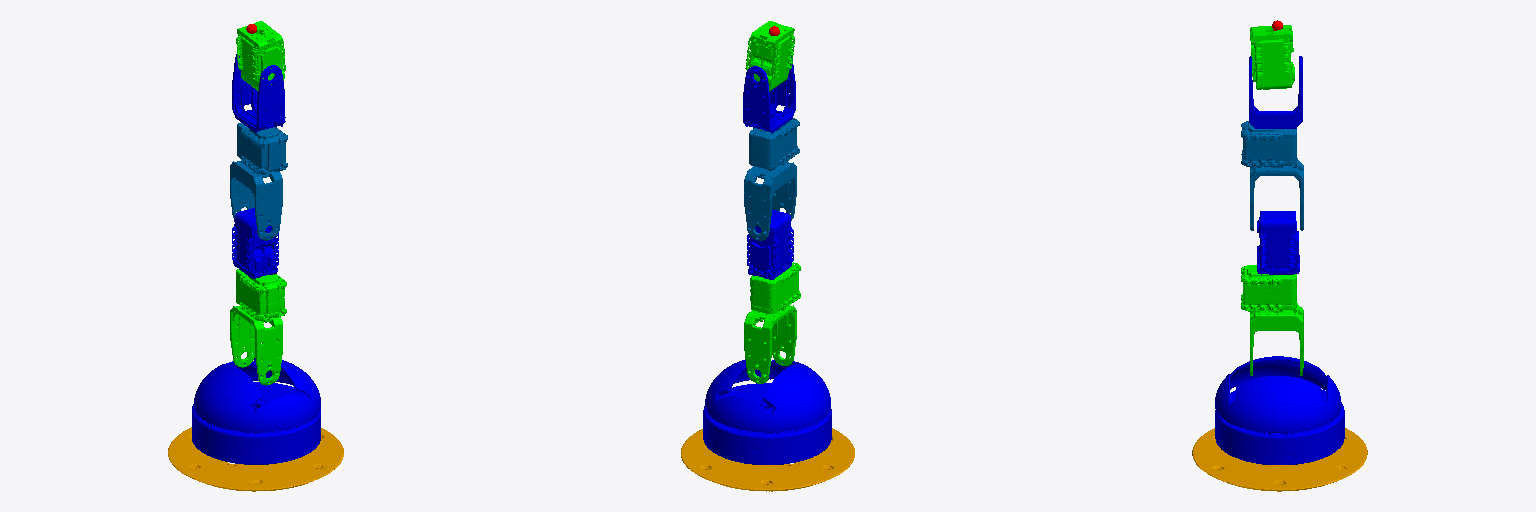
The robot description file, URDF, robot "robot_arm":
<!--https://www.hamzamerzic.info/mesh_cleaner/?-->
<!--file://[local-path]/Downloads/bullet3-master/data/kuka_iiwa/model.urdf-->
<robot name="robot_arm">
  <material  name="red">
    <color rgba="1.0 0.0 0.0 1.0"/>
  </material>
  <material  name="green">
    <color rgba="0.0 1.0 0.0 1.0"/>
  </material>
  <material  name="blue">
    <color rgba="0.0 0.0 1.0 1.0"/>
  </material>

  <link name="root">
    <inertial>
      <origin xyz="0 0 0" rpy="0 0 0" />
      <!-- Volume:  7.1922752000e-05 -->
      <mass value="0" />
      <!--pose>  6.0072000000e-03  1.8791600000e-03  2.2527800000e-03 0 0 0 </pose-->
      <inertia ixx="1.7270217664e-03" ixy="3.5078468633e-07" ixz="-9.6598361531e-07" iyy="3.4406858987e-03" iyz="-8.2437056914e-08" izz="1.7184554465e-03"/>
    </inertial>
    <visual>
      <origin xyz="0 0 0" rpy="-1.57 0 0" />
      <geometry>
        <mesh filename="data/root.dae" />
      </geometry>
    </visual>
    <collision>
      <origin xyz="0 0 0" rpy="-1.57 0 0" />
      <geometry>
        <mesh filename="data/root.stl" />
      </geometry>
    </collision>
  </link>
  
  <joint name="joint1" type="revolute">
    <origin xyz="0 0 0" rpy="0 0 3.14" />
    <axis xyz="0 0 1" />
    <parent link="root" />
    <child  link="link1" />
    <calibration rising="0.0" />
    <dynamics damping="0.0" friction="0.0" />
    <limit effort="30" velocity="1.0" lower="-2.6" upper="2.6" />
    <safety_controller k_velocity="10" soft_lower_limit="-2.2" soft_upper_limit="2.2" />
  </joint>
  
  <link name="link1">
    <inertial>
      <!-- Volume:  1.1736998000e-04 -->
      <mass value="1.0" />
      <!--pose>  6.0584500000e-03  4.2441850000e-02 -2.5059200000e-03 0 0 0 </pose-->
      <inertia ixx="1.5223804477e-03" ixy="1.3931484865e-05" ixz="4.6208025255e-06" iyy="2.3857795366e-03" iyz="-5.3988353751e-06" izz="1.4408507363e-03"/>
    </inertial>
    <visual>
      <origin xyz="-0.005 -0.01 0" rpy="1.57 0 1.57" />
      <geometry>
        <mesh filename="data/link1.dae" />
      </geometry>
      <material name="blue" />
    </visual>
    <collision>
      <origin xyz="-0.005 -0.01 0" rpy="1.57 0 1.57"  />
      <geometry>
        <mesh filename="data/link1.stl" />
      </geometry>
    </collision>
  </link>
  
  <joint name="joint2" type="revolute">
    <origin xyz="0.0 0 0.0916" rpy="-1.57 1.57 0" />
    <axis xyz="0 0 1" />
    <parent link="link1" />
    <child  link="link2" />
    <calibration rising="0.0" />
    <dynamics damping="0.0" friction="0.0" />
    <limit effort="30" velocity="1.0" lower="-2.1" upper="2.1" />
    <safety_controller k_velocity="10" soft_lower_limit="-1.7" soft_upper_limit="1.7" />
  </joint>
  
  <link name="link2">
    <inertial>
      <!-- Volume:  5.3688465000e-05 -->
      <mass value="1.0" />
      <!--pose> -7.0384000000e-04  1.5605060000e-02  1.4795500000e-02 0 0 0 </pose-->
      <inertia ixx="5.4092711721e-04" ixy="1.1341970757e-06" ixz="5.3805058498e-05" iyy="7.2045046920e-04" iyz="-6.1169023923e-06" izz="3.0026347000e-04"/>
    </inertial>
    <visual>
      <origin xyz="-0.046 0.02 0.005" rpy="-1.57 1.57 1.57" />
      <geometry>
        <mesh filename="data/link2.dae" />
      </geometry>
      <material name="green" />
    </visual>
    <collision>
      <origin xyz="-0.046 0.02 0.005" rpy="-1.57 1.57 1.57" />
      <geometry>
        <mesh filename="data/link2.stl" />
      </geometry>
    </collision>
  </link>
  
  <joint name="joint3" type="revolute">
    <origin xyz="-0.0935 0 0" rpy="0 -1.57 0" />
    <axis xyz="0 0 1" />
    <parent link="link2" />
    <child  link="link3" />
    <calibration rising="0.0" />
    <dynamics damping="0.0" friction="0.0" />
    <limit effort="30" velocity="1.0" lower="-2.6" upper="2.6" />
    <safety_controller k_velocity="10" soft_lower_limit="-2.2" soft_upper_limit="2.2" />
  </joint>
  
  <link name="link3">
    <inertial>
      <!-- Volume:  4.4373322000e-05 -->
      <mass value="1.0" />
      <!--pose> -9.1594000000e-04  1.5870950000e-02  7.9653000000e-04 0 0 0 </pose-->
      <inertia ixx="2.7643987980e-04" ixy="9.0842871760e-09" ixz="-4.3337278196e-06" iyy="3.1896672735e-04" iyz="4.1547711934e-07" izz="1.5720104301e-04"/>
    </inertial>
    <visual>
      <origin xyz="-0.00 -0.012 0.022" rpy="0 0 0"/>
      <geometry>
        <mesh filename="data/link3.dae" />
      </geometry>
      <material name="blue" />
    </visual>
    <collision>
      <origin xyz="-0.00 -0.012 0.022" rpy="0 0 0"/>
      <geometry>
        <mesh filename="data/link3.stl" />
      </geometry>
    </collision>
  </link>
  
  <joint name="joint4" type="revolute">
    <origin xyz="0 0 0.0437" rpy="0 1.57 0" />
    <axis xyz="0 0 1" />
    <parent link="link3" />
    <child  link="link4" />
    <calibration rising="0.0" />
    <dynamics damping="0.0" friction="0.0" />
    <limit effort="30" velocity="1.0" lower="-2.1" upper="2.1" />
    <safety_controller k_velocity="10" soft_lower_limit="-1.7" soft_upper_limit="1.7" />
  </joint>
  
  <link name="link4">
    <inertial>
      <!-- Volume:  5.3506546000e-05 -->
      <mass value="1.0" />
      <!--pose> -1.5582800000e-03  1.4998590000e-02 -2.8418200000e-03 0 0 0 </pose-->
      <inertia ixx="5.5589705790e-04" ixy="-2.3330584635e-06" ixz="-5.4290039578e-05" iyy="7.3493604315e-04" iyz="-1.3984593586e-05" izz="3.0048525651e-04" />
    </inertial>
    <visual>
      <origin xyz="-0.07 -0.01 0.007" rpy="0 -1.57 0" />
      <geometry>
        <mesh filename="data/link4.dae"/>
      </geometry>
      <material name="geen" />
    </visual>
    <collision>
      <origin xyz="-0.07 -0.01 0.007" rpy="0 -1.57 0" />
      <geometry>
        <mesh filename="data/link4.stl" />
      </geometry>
    </collision>
  </link>
  
  <joint name="joint5" type="revolute">
    <origin xyz="-0.0971 0 0" rpy="3.14 1.57 0" />
    <axis xyz="0 0 1" />
    <parent link="link4" />
    <child  link="link5" />
    <calibration rising="0.0" />https://www.hamzamerzic.info/mesh_cleaner/?
    <dynamics damping="0.0" friction="0.0" />
    <limit effort="30" velocity="1.0" lower="-2.6" upper="2.6" />
    <safety_controller k_velocity="10" soft_lower_limit="-2.2" soft_upper_limit="2.2" />
  </joint>
  
  <link name="link5">
    <inertial>
      <!-- Volume:  1.2654689000e-05 -->
      <mass value="1.0" />
      <!--pose> -1.4611400000e-03  1.3265880000e-02 -6.7398800000e-03 0 0 0 </pose-->
      <inertia ixx="4.0059715415e-04" ixy="-5.0194832919e-08" ixz="-2.5979303008e-07" iyy="7.1127871258e-04" iyz="-6.7620152498e-06" izz="4.5263093388e-04"/>
    </inertial>
    <visual>
      <origin xyz="0 -0.02 0.03" rpy="0 0 0" />
      <geometry>
        <mesh filename="data/link5.dae"/>
      </geometry>
      <material name="blue" />
    </visual>
    <collision>
      <origin xyz="0 -0.02 0.03" rpy="0 0 0" />
      <geometry>
        <mesh filename="data/link5.stl"/>
      </geometry>
    </collision>
  </link>
  
  <joint name="joint6" type="revolute">
    <origin xyz="0 0 0.052" rpy="0 -1.57 0" />
    <axis xyz="0 0 1" />
    <parent link="link5" />
    <child  link="link6" />
    <calibration rising="0.0" />
    <dynamics damping="0.0" friction="0.0" />
    <limit effort="30" velocity="1.0" lower="-2.1" upper="2.1" />
    <safety_controller k_velocity="10" soft_lower_limit="-1.7" soft_upper_limit="1.7" />
  </joint>
  
  <link name="link6">
    <inertial>
      <!-- Volume:  4.7712120000e-05 -->
      <mass value="1.0" />
      <!--pose>  1.3942550000e-02  4.9358810000e-02  1.6219755000e-01 0 0 0 </pose-->
      <inertia ixx="2.7167957324e-04" ixy="9.4654796308e-06" ixz="5.8611941788e-07" iyy="1.6274507190e-04" iyz="1.3052637359e-05" izz="3.1645738022e-04"/>
    </inertial>
    <visual>
      <origin xyz="-0.037 0.155 0.0185" rpy="1.57 1.57 0" />
      <geometry>
        <mesh filename="data/link6.dae"/>
      </geometry>
      <material name="green" />
    </visual>
    <collision>
      <origin rpy="0 0 0" xyz="0 0 0"/>
      <geometry>
        <mesh filename="data/link6.stl"/>
      </geometry>
    </collision>
  </link>
  
  <joint name="end_effector" type="fixed"> <!--Plans to upgrade to 7DOF-->
    <origin xyz="0.0419 0 0" rpy="-1.57 0 0" />
    <parent link="link6" />
    <child  link="dummy" />
  </joint>
  
  <link name="dummy">
    <inertial>
      <mass value="1.0" />
      <inertia ixx="0.0" ixy="0.0" ixz="0.0" iyy="0.0" iyz="0.0" izz="0.0"/>
    </inertial>
    <visual>
      <origin rpy="0 0 0" xyz="0 0 0"/>
      <geometry>
        <sphere radius="0.005"/>
      </geometry>
      <material name="red" />
    </visual>
    <collision>
      <origin rpy="0 0 0" xyz="0 0 0"/>
      <geometry>
        <sphere radius="0.005"/>
      </geometry>
    </collision>
  </link>
</robot>

--- What the picture shows (computed from the rendered views, not written in the file) ---
3 views of the same robot in one strip: view 1: azimuth 30°, elevation 25°; view 2: azimuth 150°, elevation 25°; view 3: azimuth 270°, elevation 25° (orthographic).
Model robot_arm with 8 links and 7 joints (6 revolute, 1 fixed), rooted at root, posed all joints at 0.
Visible links, largest first — view 1: link1, root, link2, link4, link5, link3, link6; view 2: link1, root, link2, link4, link5, link3, link6; view 3: link1, root, link2, link4, link3, link6, link5.
Boxes of the visible links, left/top/right/bottom form: link1: left=192, top=358, right=320, bottom=464; root: left=168, top=427, right=343, bottom=491; link2: left=230, top=269, right=286, bottom=385; link4: left=230, top=123, right=287, bottom=240; link5: left=232, top=54, right=285, bottom=132; link3: left=232, top=208, right=278, bottom=278; link6: left=236, top=21, right=285, bottom=90; link1: left=703, top=359, right=831, bottom=464; root: left=681, top=428, right=854, bottom=491; link2: left=744, top=262, right=800, bottom=383; link4: left=744, top=118, right=799, bottom=240; link5: left=743, top=56, right=795, bottom=133; link3: left=747, top=210, right=793, bottom=279; link6: left=745, top=21, right=794, bottom=91; link1: left=1215, top=356, right=1344, bottom=464; root: left=1192, top=428, right=1367, bottom=491; link2: left=1241, top=265, right=1303, bottom=375; link4: left=1241, top=121, right=1303, bottom=230; link3: left=1257, top=211, right=1299, bottom=274; link6: left=1250, top=25, right=1294, bottom=89; link5: left=1249, top=56, right=1302, bottom=128.
Bounding box of the posed robot: 0.1576 × 0.1576 × 0.4305 m (x, y, z).
Meshes: 7 distinct files referenced, 7 mesh visuals loaded (7 Collada DAE).
